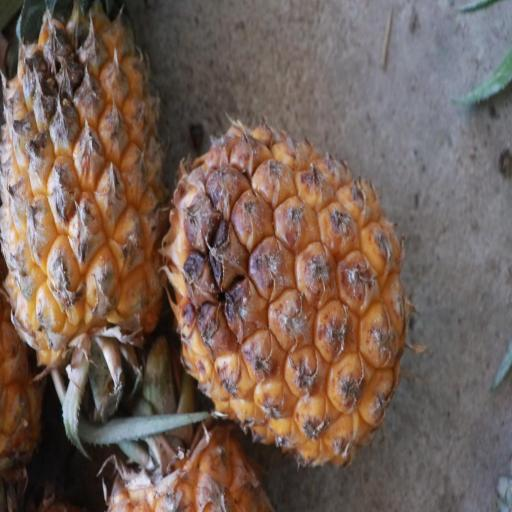Pineapple - v8 v1: (161, 118, 415, 473), (0, 2, 177, 395)
